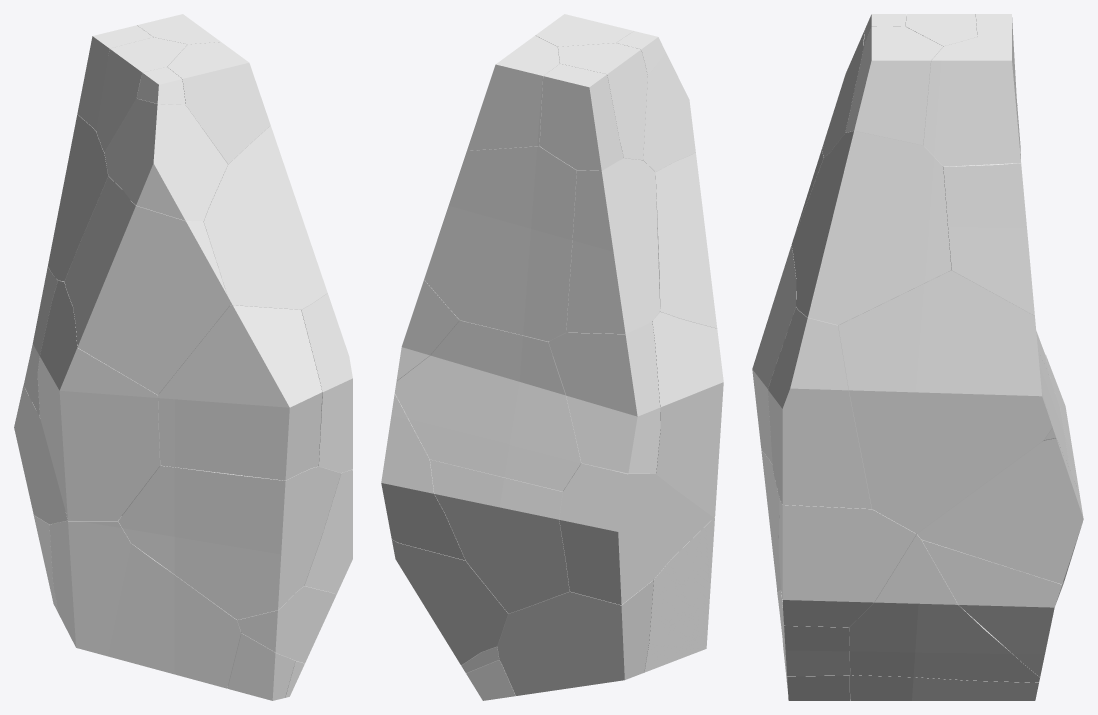
File: Charcoal_1_broken.fbx
3 renders of one model, left to right at view 1: azimuth 30°, elevation 25°; view 2: azimuth 150°, elevation 25°; view 3: azimuth 270°, elevation 25°, orthographic. The views are drawn at different scales.
Visible parts, largest first — view 1: charcoal_1_cell.011, charcoal_1_cell.021, charcoal_1_cell.014, charcoal_1_cell.007, charcoal_1_cell.002, charcoal_1_cell.003, charcoal_1_cell.004, charcoal_1_cell.022, charcoal_1_cell.015, charcoal_1_cell.006, charcoal_1_cell.016, charcoal_1_cell.018 (+9 smaller); view 2: charcoal_1_cell.017, charcoal_1_cell.005, charcoal_1_cell.028, charcoal_1_cell.016, charcoal_1_cell, charcoal_1_cell.029, charcoal_1_cell.008, charcoal_1_cell.007, charcoal_1_cell.014, charcoal_1_cell.019, charcoal_1_cell.027, charcoal_1_cell.020 (+8 smaller); view 3: charcoal_1_cell.025, charcoal_1_cell.002, charcoal_1_cell.006, charcoal_1_cell.001, charcoal_1_cell.020, charcoal_1_cell.023, charcoal_1_cell.009, charcoal_1_cell.017, charcoal_1_cell.019, charcoal_1_cell.015, charcoal_1_cell.024, charcoal_1_cell.011 (+8 smaller).
Boxes of the visible parts, x1,y1,x2,y2 form: charcoal_1_cell.011: [158, 305, 322, 480]; charcoal_1_cell.021: [118, 465, 340, 619]; charcoal_1_cell.014: [64, 176, 229, 394]; charcoal_1_cell.007: [37, 280, 160, 520]; charcoal_1_cell.002: [203, 125, 327, 309]; charcoal_1_cell.003: [108, 543, 240, 688]; charcoal_1_cell.004: [104, 98, 227, 221]; charcoal_1_cell.022: [49, 516, 130, 656]; charcoal_1_cell.015: [167, 42, 270, 164]; charcoal_1_cell.006: [299, 293, 352, 472]; charcoal_1_cell.016: [47, 114, 108, 281]; charcoal_1_cell.018: [96, 37, 187, 152]; charcoal_1_cell.017: [424, 146, 576, 341]; charcoal_1_cell.005: [394, 320, 581, 491]; charcoal_1_cell.028: [559, 463, 713, 604]; charcoal_1_cell.016: [566, 158, 660, 333]; charcoal_1_cell: [430, 459, 569, 613]; charcoal_1_cell.029: [548, 321, 660, 473]; charcoal_1_cell.008: [497, 580, 653, 695]; charcoal_1_cell.007: [652, 312, 723, 517]; charcoal_1_cell.014: [655, 152, 717, 328]; charcoal_1_cell.019: [392, 539, 508, 664]; charcoal_1_cell.027: [539, 63, 623, 170]; charcoal_1_cell.020: [381, 393, 465, 560]; charcoal_1_cell.025: [838, 270, 1052, 533]; charcoal_1_cell.002: [791, 131, 951, 325]; charcoal_1_cell.006: [768, 307, 871, 508]; charcoal_1_cell.001: [849, 534, 1039, 682]; charcoal_1_cell.020: [917, 438, 1083, 584]; charcoal_1_cell.023: [778, 498, 915, 627]; charcoal_1_cell.009: [923, 37, 1020, 166]; charcoal_1_cell.017: [943, 163, 1034, 315]; charcoal_1_cell.019: [921, 539, 1063, 677]; charcoal_1_cell.015: [845, 26, 943, 145]; charcoal_1_cell.024: [849, 672, 1038, 700]; charcoal_1_cell.011: [752, 245, 796, 464].
Size of the model in its own units: 229 by 535 by 251.
